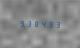eight: (32, 19, 38, 27)
four: (39, 19, 45, 28)
nine: (17, 19, 23, 27), (46, 20, 52, 28)
three: (24, 19, 30, 27), (53, 20, 59, 28)
